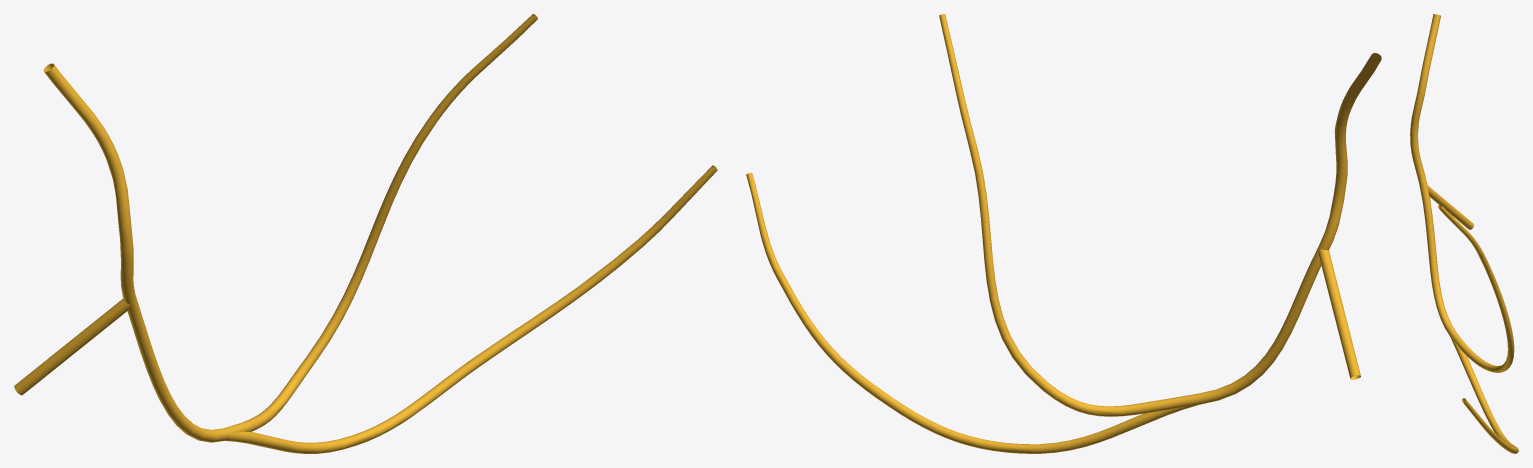
Rendered from nervoso-superior-gluteal-nerve-l.glb.
3 renders of one model, left to right at view 1: azimuth 30°, elevation 25°; view 2: azimuth 150°, elevation 25°; view 3: azimuth 270°, elevation 25°, orthographic. The views are drawn at different scales.
Visible parts, largest first — view 1: Superior gluteal nerve.l; view 2: Superior gluteal nerve.l; view 3: Superior gluteal nerve.l.
Boxes of the visible parts, x1,y1,x2,y2 form: Superior gluteal nerve.l: (14, 14, 717, 453); Superior gluteal nerve.l: (746, 14, 1381, 453); Superior gluteal nerve.l: (1410, 14, 1518, 453).
Size of the model in its own units: 0.0884 by 0.0608 by 0.0192.
